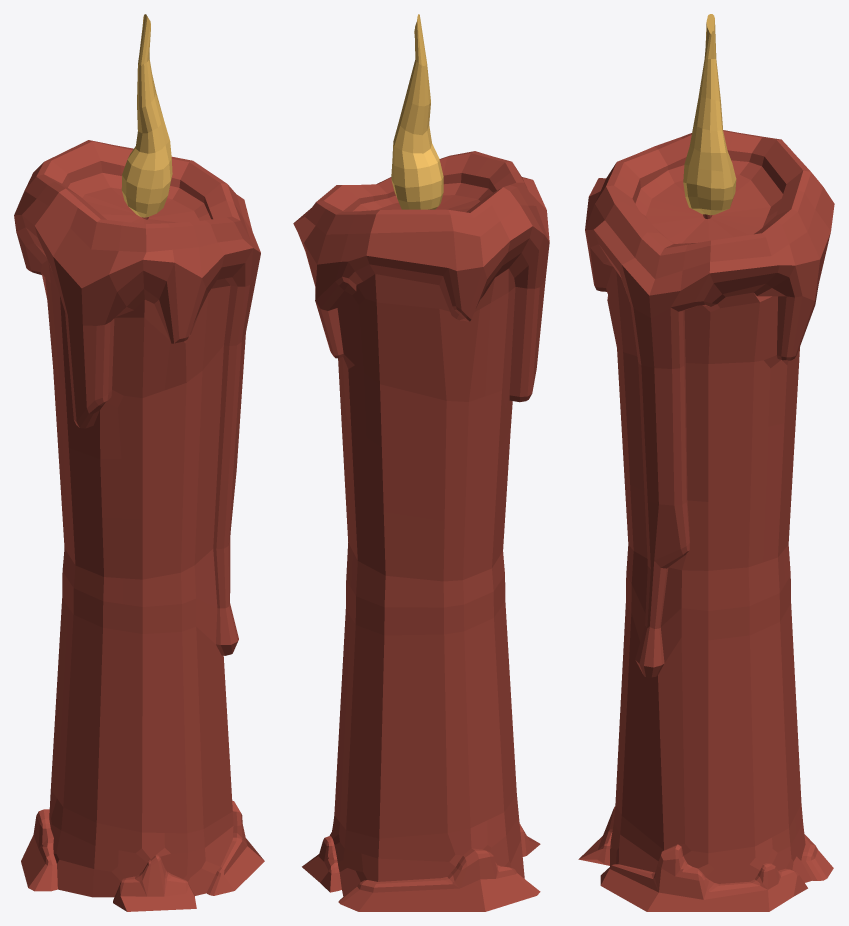
Rendered from WF_LP_HT_Props_Candle.006.fbx.
The picture shows the model from 3 angles, left to right: view 1: azimuth 30°, elevation 25°; view 2: azimuth 150°, elevation 25°; view 3: azimuth 270°, elevation 25°; orthographic projection.
Parts seen in each view (by area): view 1: WF_LP_HT_Props_Candle.006; view 2: WF_LP_HT_Props_Candle.006; view 3: WF_LP_HT_Props_Candle.006.
Boxes of the visible parts, x1,y1,x2,y2 form: WF_LP_HT_Props_Candle.006: [14, 14, 264, 911]; WF_LP_HT_Props_Candle.006: [293, 14, 549, 911]; WF_LP_HT_Props_Candle.006: [578, 14, 834, 911].
Size of the model in its own units: 0.0838 by 0.3141 by 0.0853.
